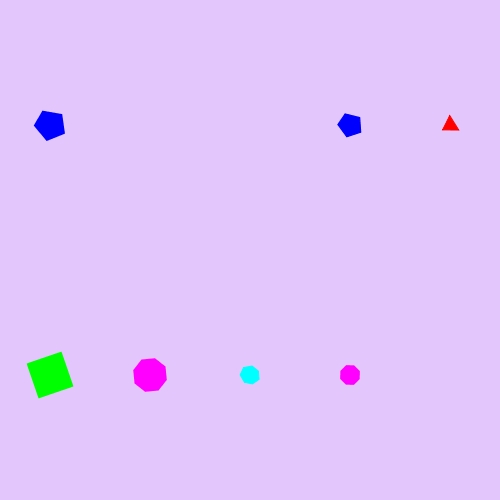heptagon: (236, 361, 265, 389)
octagon: (129, 354, 172, 397), (335, 360, 365, 390)
pentagon: (31, 106, 70, 145), (334, 109, 366, 141)
quadrilateral: (21, 346, 79, 404)
triangle: (438, 112, 463, 138)
